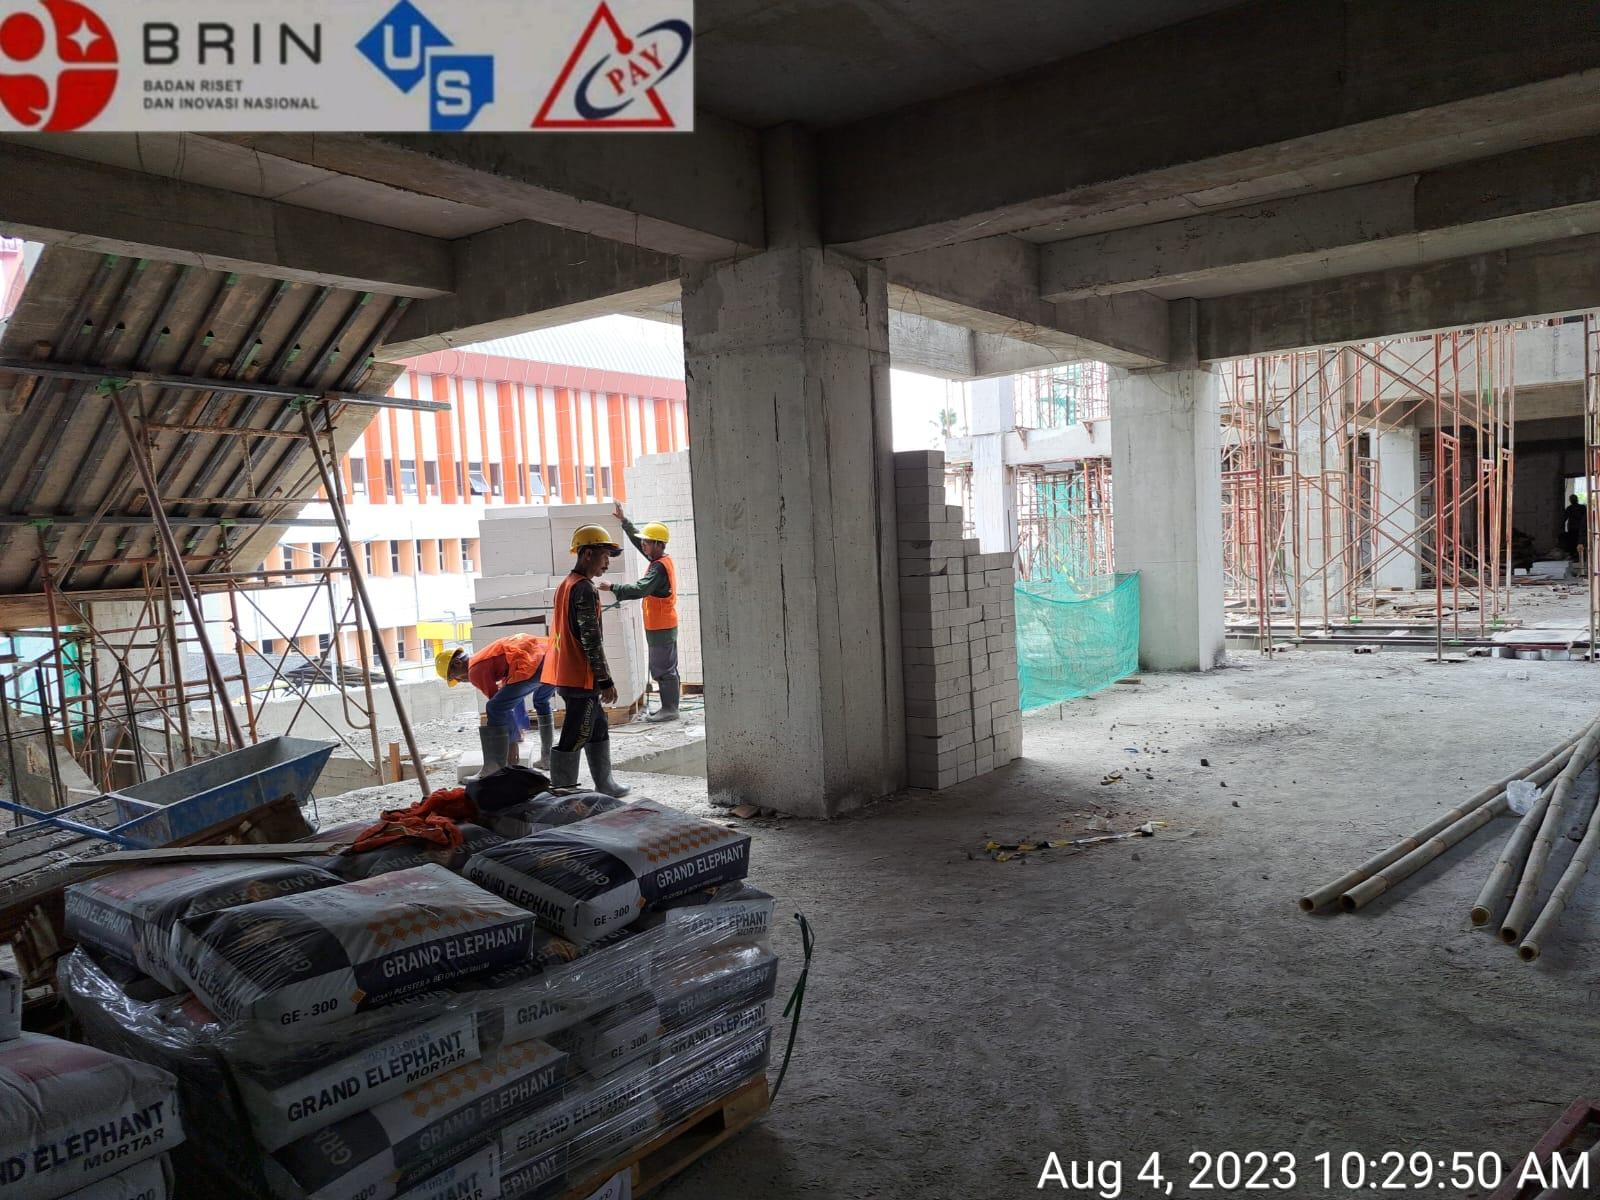hat: (538, 492, 631, 601), (408, 624, 477, 701), (621, 504, 690, 563)
vest: (527, 568, 609, 713), (627, 555, 695, 653), (471, 621, 548, 708)
